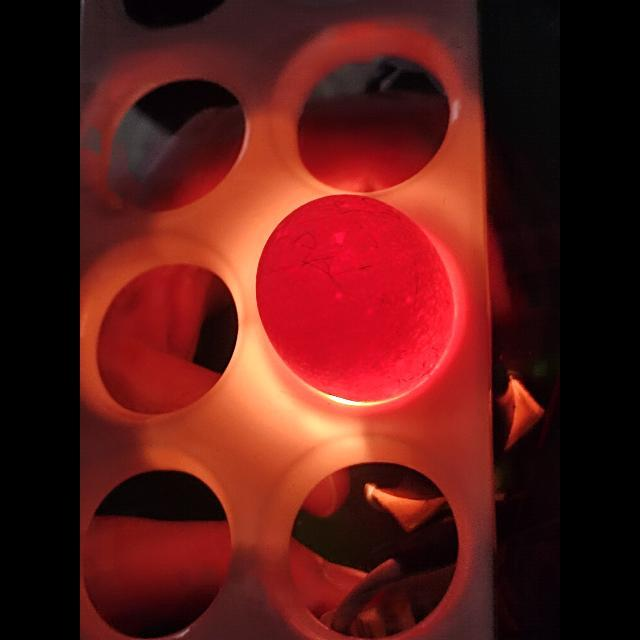Infertile: (260, 196, 456, 402)
